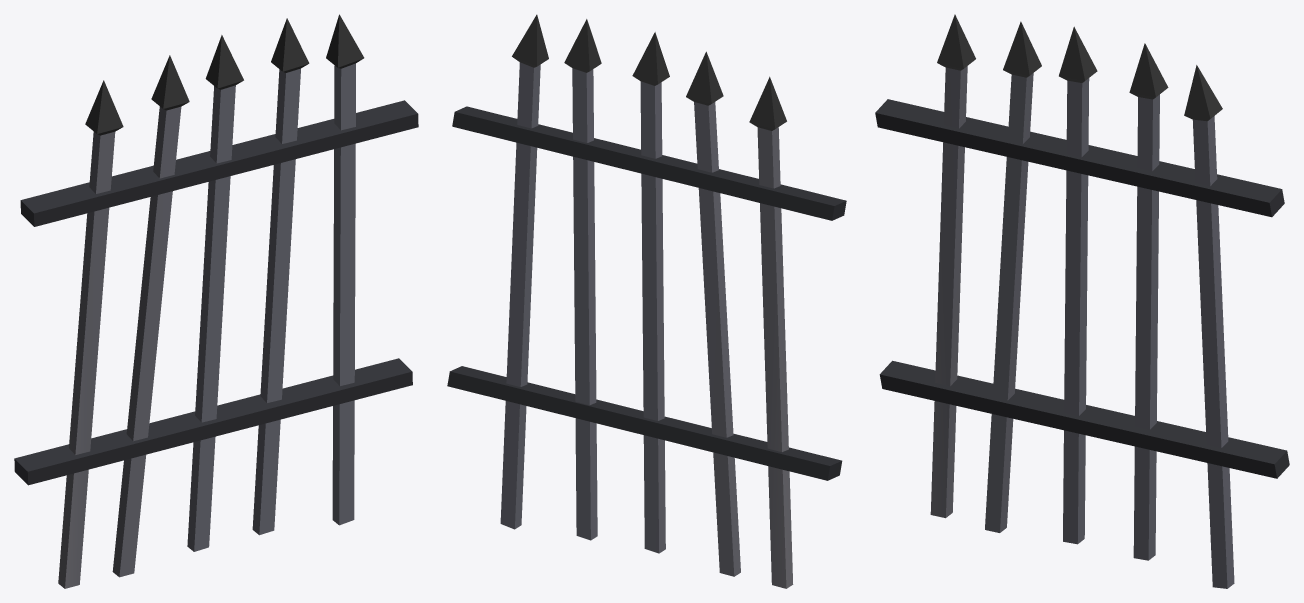
Rendered from HWN20_IronfFence_01.gltf.
3 views of the same model, side by side, from view 1: azimuth 30°, elevation 25°; view 2: azimuth 150°, elevation 25°; view 3: azimuth 330°, elevation 25° (orthographic). The views are drawn at different scales.
Parts seen in each view (by area): view 1: HWN20_IronfFence_01_glb; view 2: HWN20_IronfFence_01_glb; view 3: HWN20_IronfFence_01_glb.
Boxes of the visible parts, <box> form: HWN20_IronfFence_01_glb: <box>14,14,418,588</box>; HWN20_IronfFence_01_glb: <box>447,14,846,588</box>; HWN20_IronfFence_01_glb: <box>875,14,1289,588</box>.
Size of what is drawn, in the model's own units: 3.47 by 4.5 by 0.3594.
Materials: 1 (1 with a texture image).
